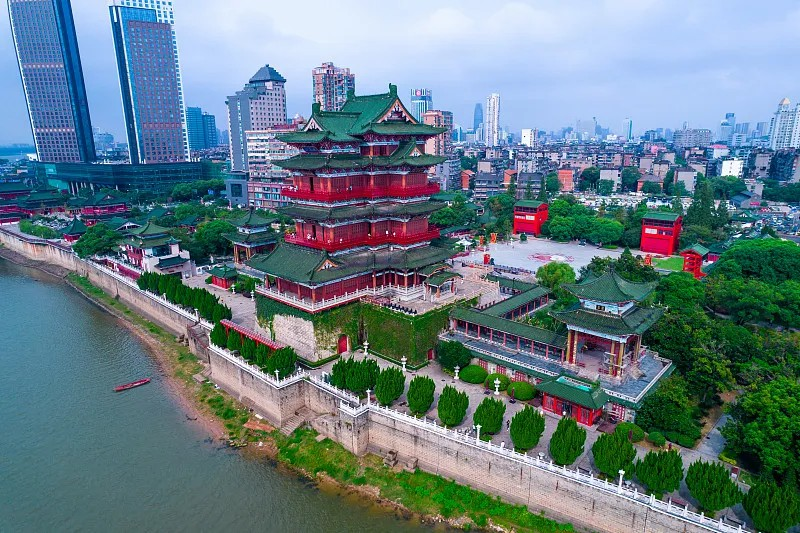Teng: (245, 84, 464, 300)
